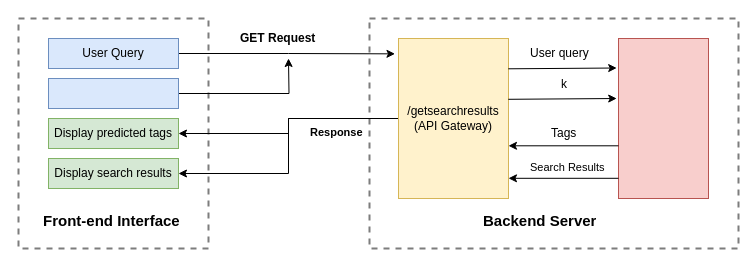
This 756x266 diagram has some shape labels left out. The centre of each missing label's shape, as x and y in pixels:
"Number of results to return (k)" goes at (x=113, y=93).
"The Brain" goes at (x=663, y=118).
